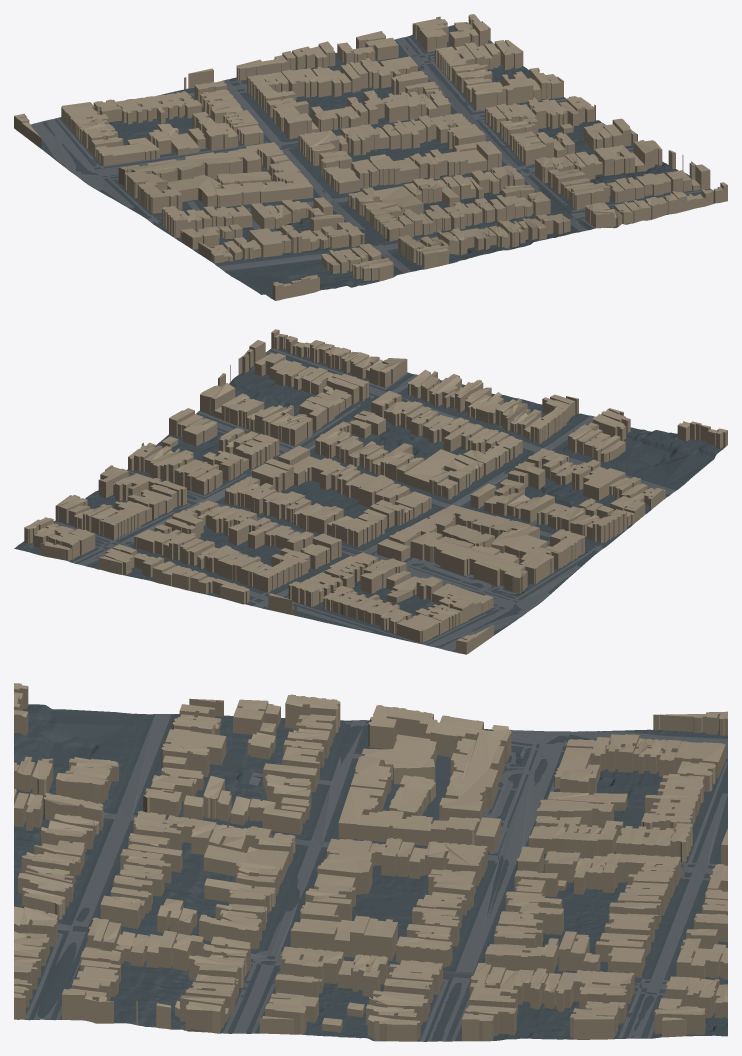
The model's file is epsg26910-1429-10888.lod0.glb.
The picture shows the model from 3 angles, top to bottom: view 1: azimuth 30°, elevation 25°; view 2: azimuth 150°, elevation 25°; view 3: azimuth 270°, elevation 25°; orthographic projection. The views are drawn at different scales.
Parts seen in each view (by area): view 1: epsg26910-1429-10888-lod0; view 2: epsg26910-1429-10888-lod0; view 3: epsg26910-1429-10888-lod0.
Part boxes in pixels (bbox=[...]): epsg26910-1429-10888-lod0: bbox=[14, 14, 727, 300]; epsg26910-1429-10888-lod0: bbox=[14, 329, 727, 654]; epsg26910-1429-10888-lod0: bbox=[14, 683, 727, 1041].
Bounding box in the file's own units: 384 × 34.03 × 384.
